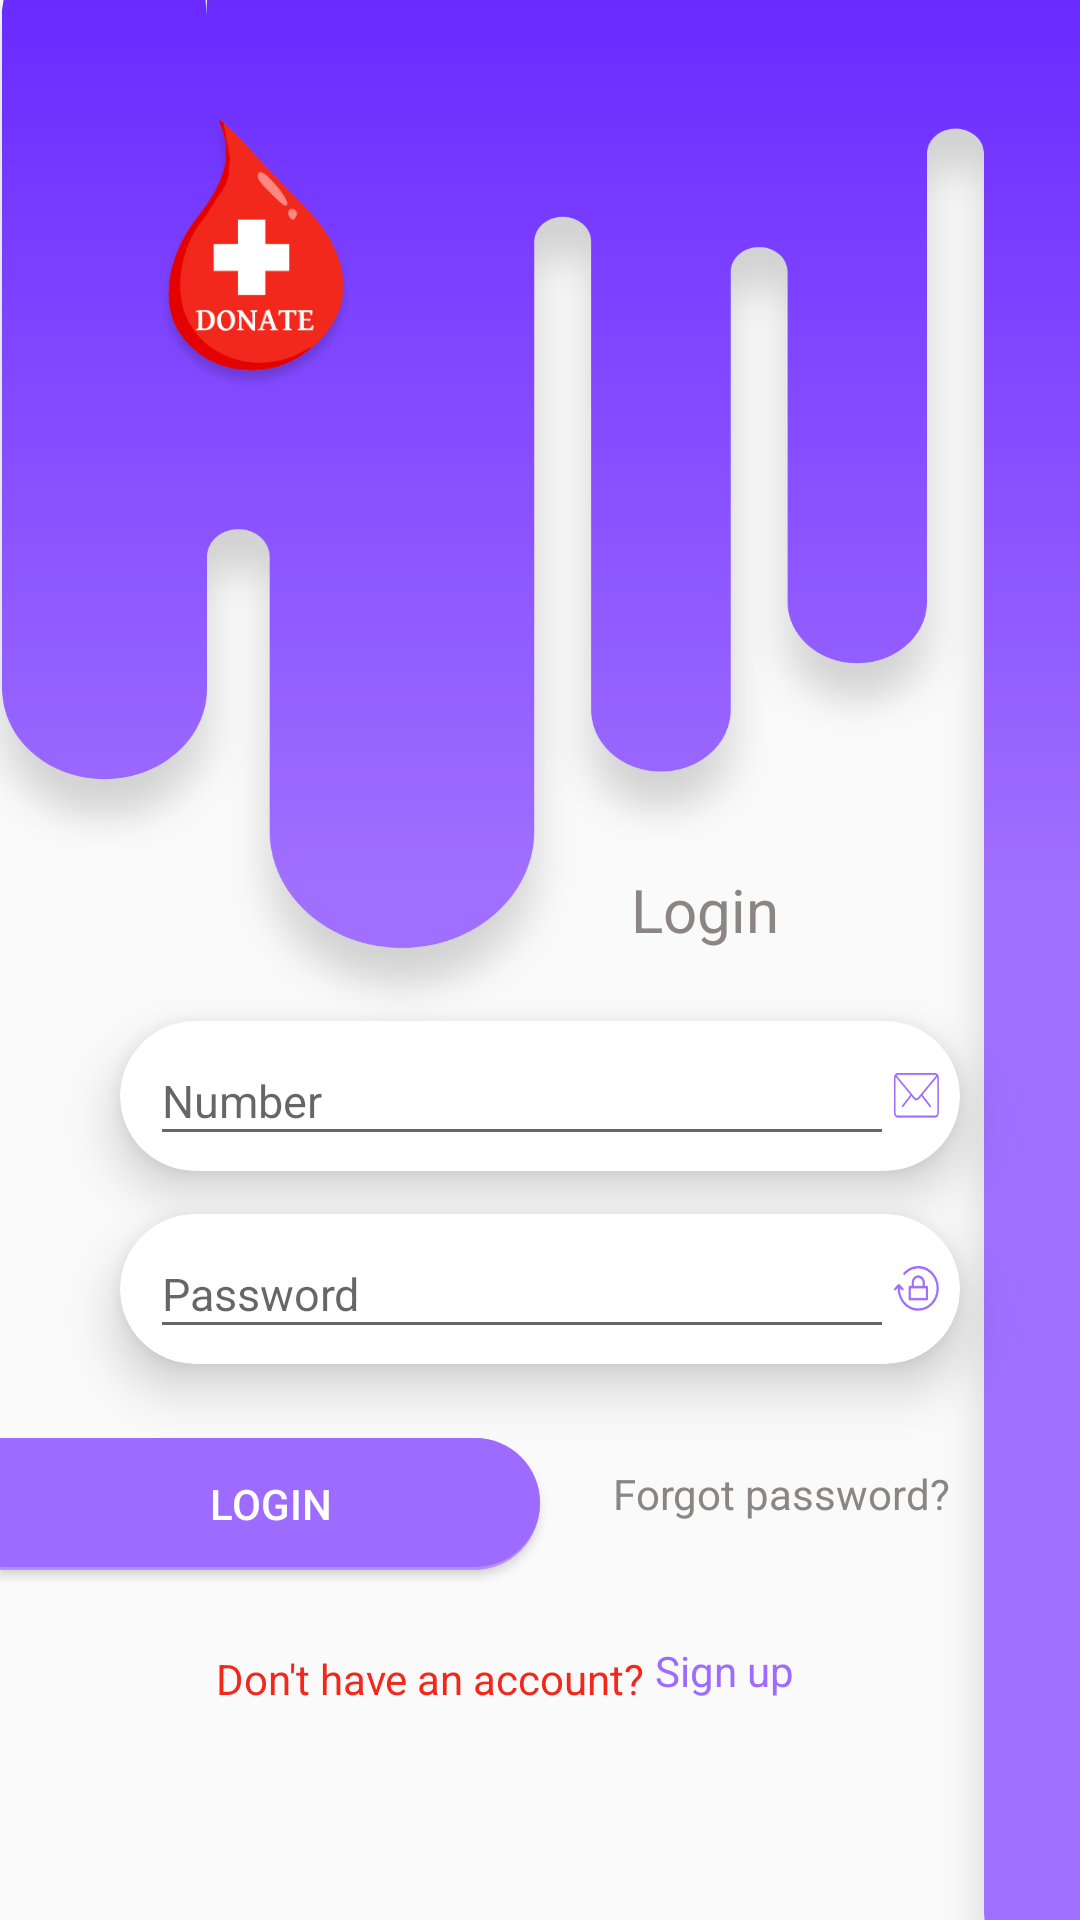

Where to tap for icons on this 1080 x 1920 app screen, as point (x, y):
mail: point (916, 1095)
